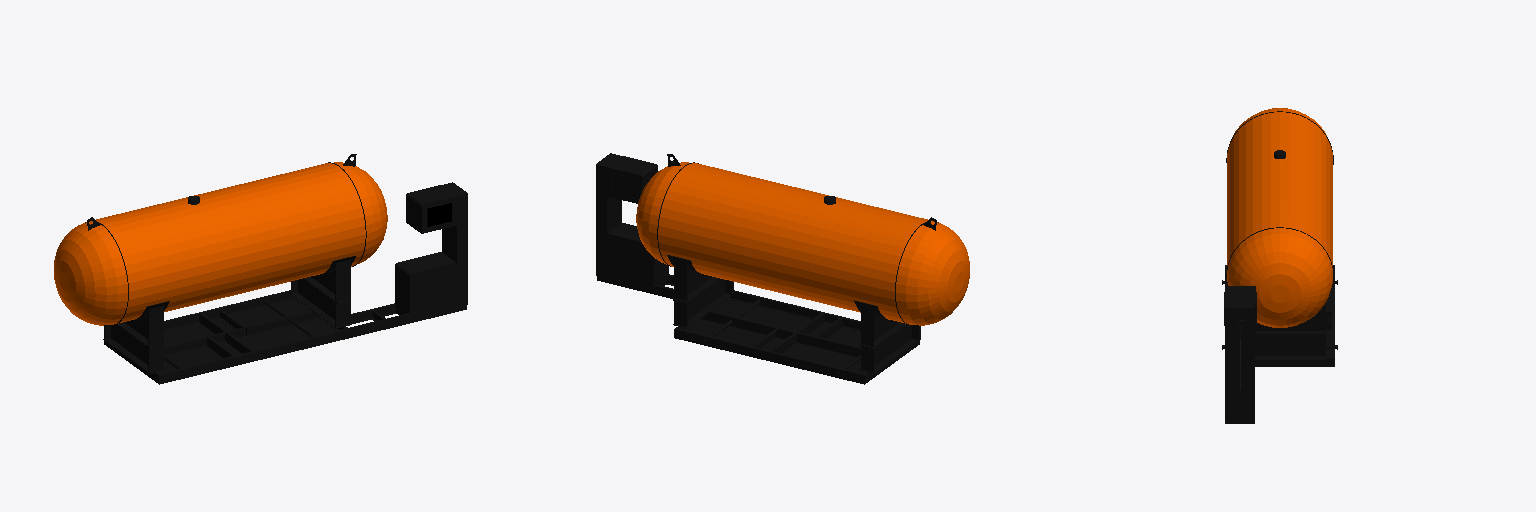
Rendered from tank.obj.
The picture shows the model from 3 angles: view 1: azimuth 30°, elevation 25°; view 2: azimuth 150°, elevation 25°; view 3: azimuth 270°, elevation 25°; orthographic projection.
Parts seen in each view (by area): view 1: ChamferCyl; view 2: ChamferCyl; view 3: ChamferCyl.
Part boxes in pixels (x1,y1,x2,y2): ChamferCyl: (54, 154, 467, 384); ChamferCyl: (596, 153, 969, 384); ChamferCyl: (1222, 108, 1337, 423).
Size of the model in its own units: 44.76 by 17.57 by 11.67.